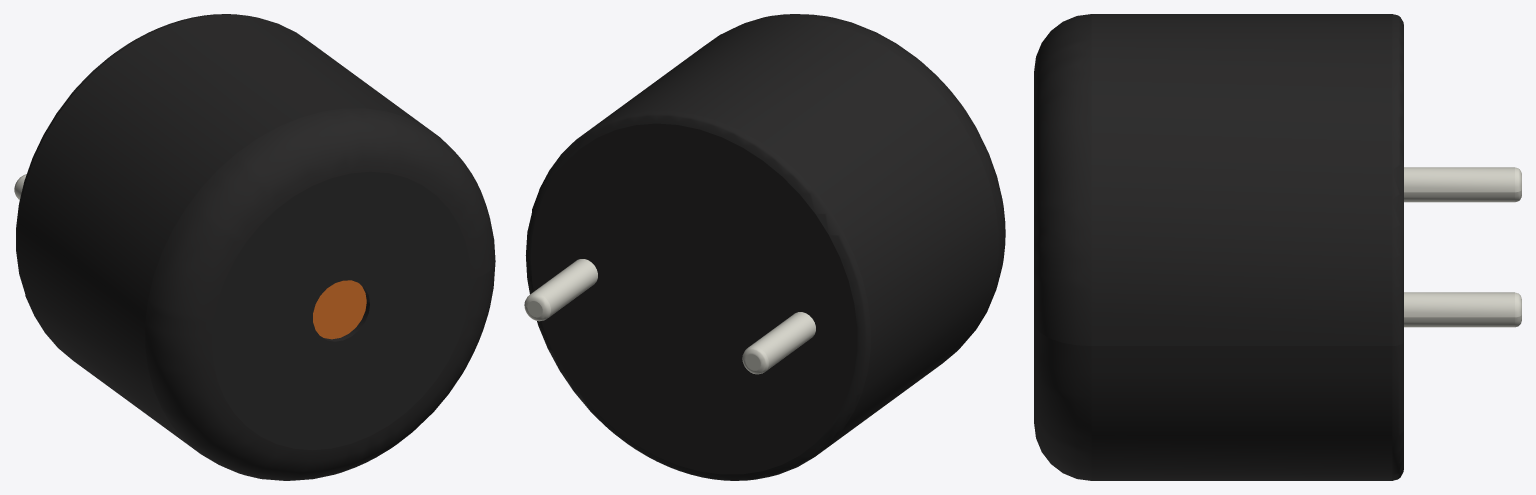
Rendered from piezo.glb.
3 renders of one model, left to right at view 1: azimuth 30°, elevation 25°; view 2: azimuth 150°, elevation 25°; view 3: azimuth 270°, elevation 25°, orthographic. The views are drawn at different scales.
Visible parts, largest first — view 1: plastic-0.02-0.02-0.02, plastic-0.62-0.15-0.02; view 2: plastic-0.02-0.02-0.02, metal-0.6; view 3: plastic-0.02-0.02-0.02, metal-0.6.
Part boxes in pixels (x1,y1,x2,y2): plastic-0.02-0.02-0.02: [16, 14, 495, 480]; plastic-0.62-0.15-0.02: [313, 280, 366, 339]; plastic-0.02-0.02-0.02: [525, 14, 1005, 480]; metal-0.6: [524, 259, 815, 374]; plastic-0.02-0.02-0.02: [1034, 14, 1403, 480]; metal-0.6: [1404, 167, 1521, 327].
Bounding box in the file's own units: 11.99 × 11.99 × 12.53.
